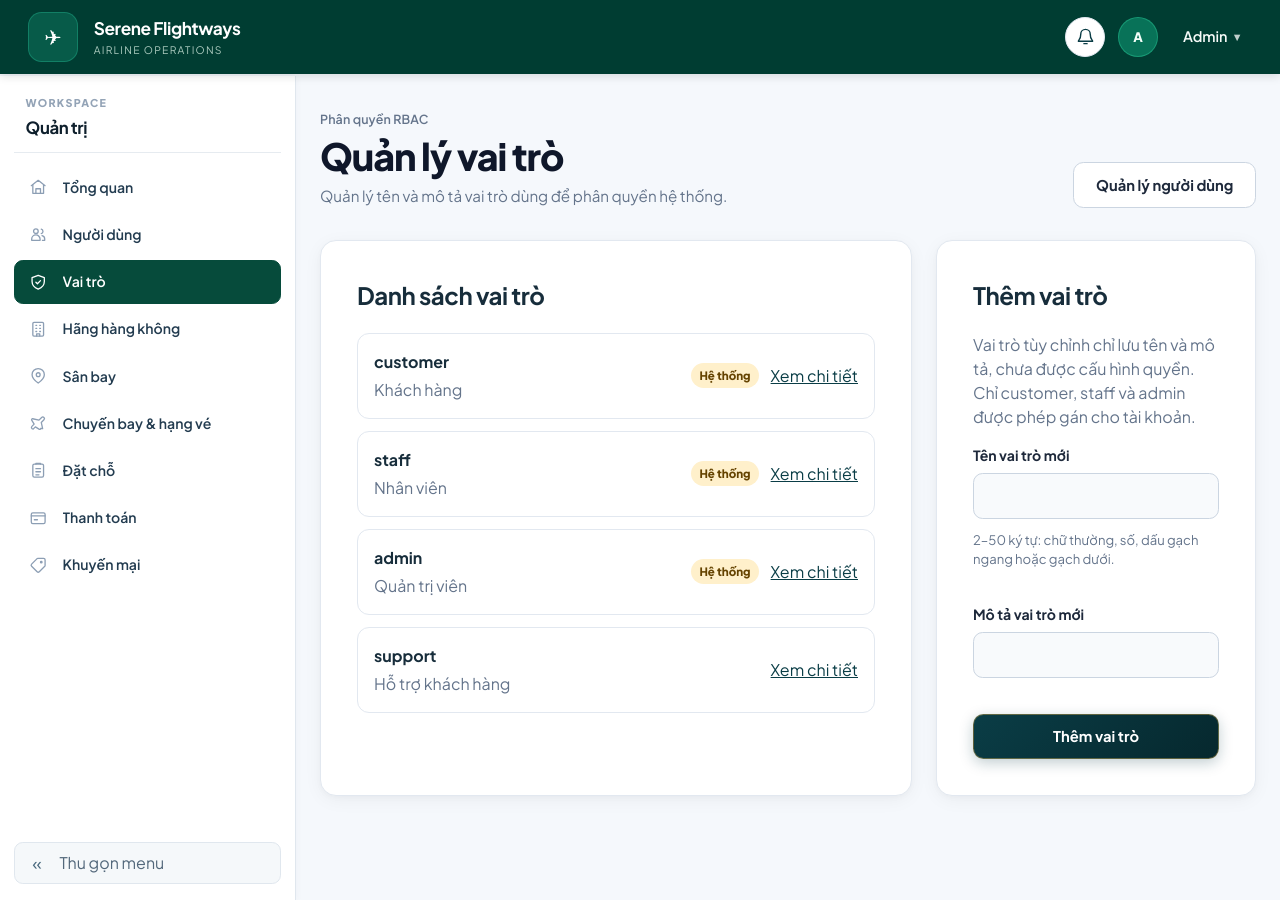
Test: admin role management › lists roles and creates a lowercase trimmed custom role with only supported fields
Expected: the heading "Quản lý vai trò" is shown, [320,132,563,179]
Expected: the text "customer" is shown, [374,351,449,372]
Type "  SUPPORT_LEAD  " into the field labelled "Tên vai trò mới".
click(1096, 496); type("  SUPPORT_LEAD  ")  # box [973,473,1219,519]
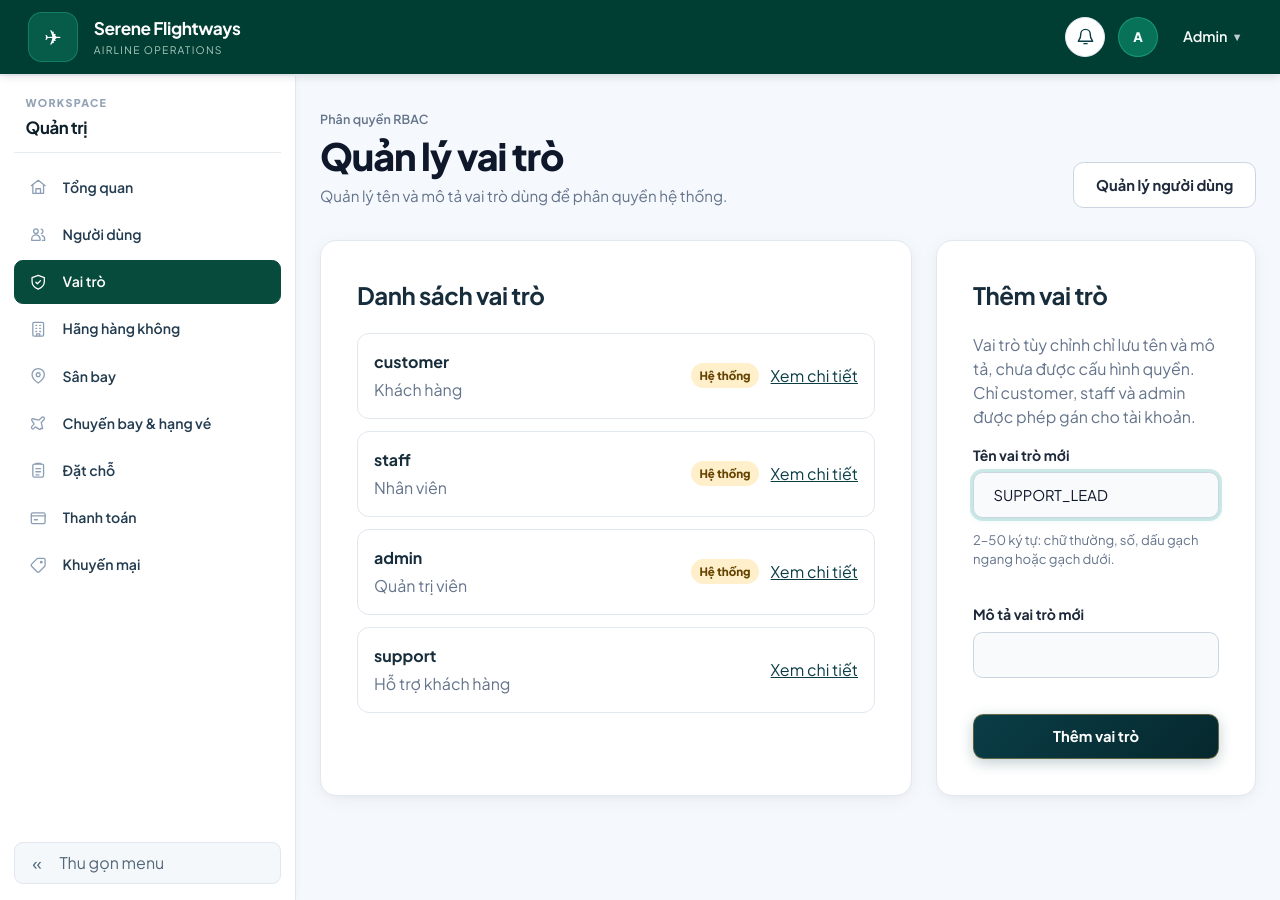
Type "Điều phối hỗ trợ" into the field labelled "Mô tả vai trò mới".
click(1096, 655); type("Điều phối hỗ trợ")  # box [973,632,1219,678]
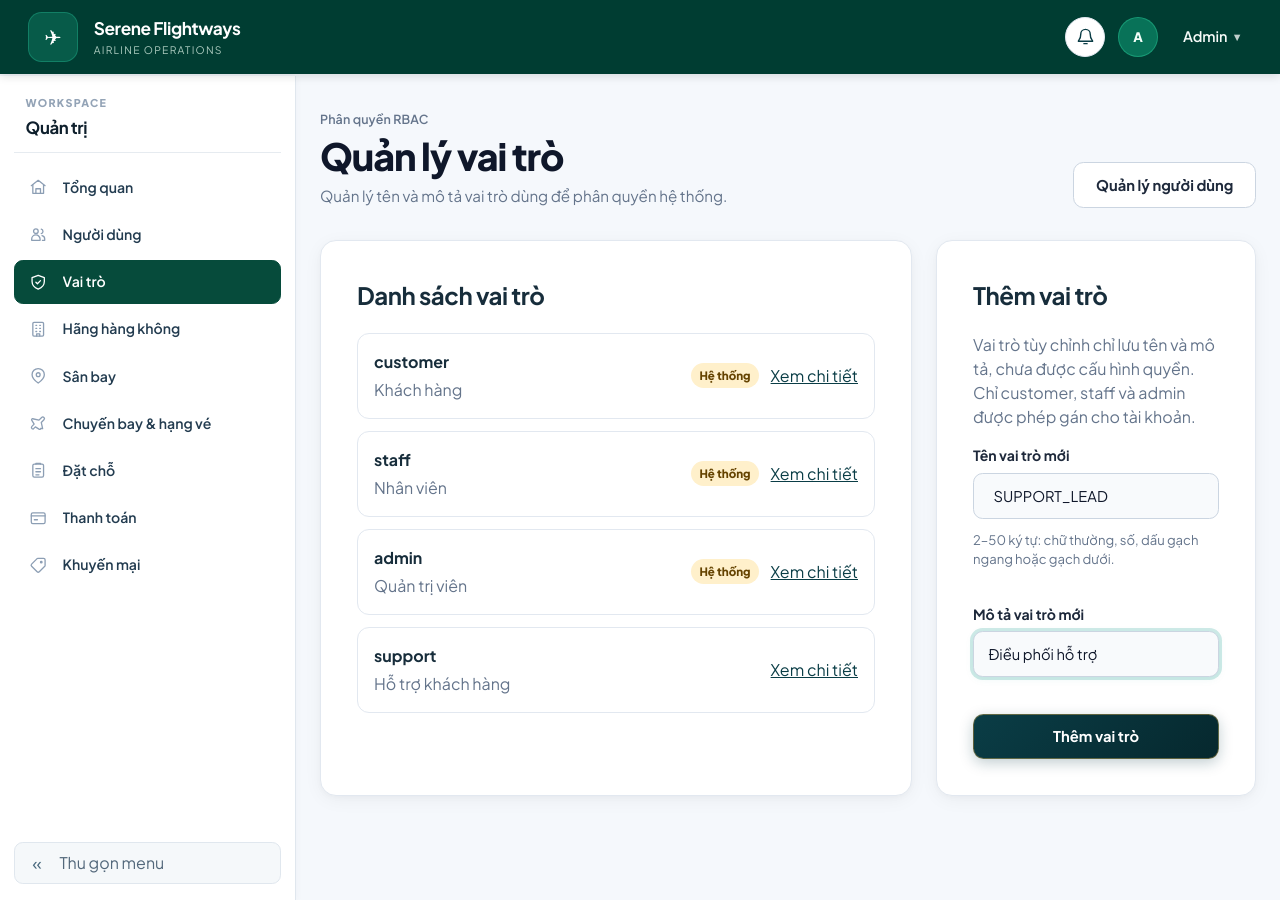
Click the button "Thêm vai trò".
click(1096, 737)  # box [973,714,1219,759]
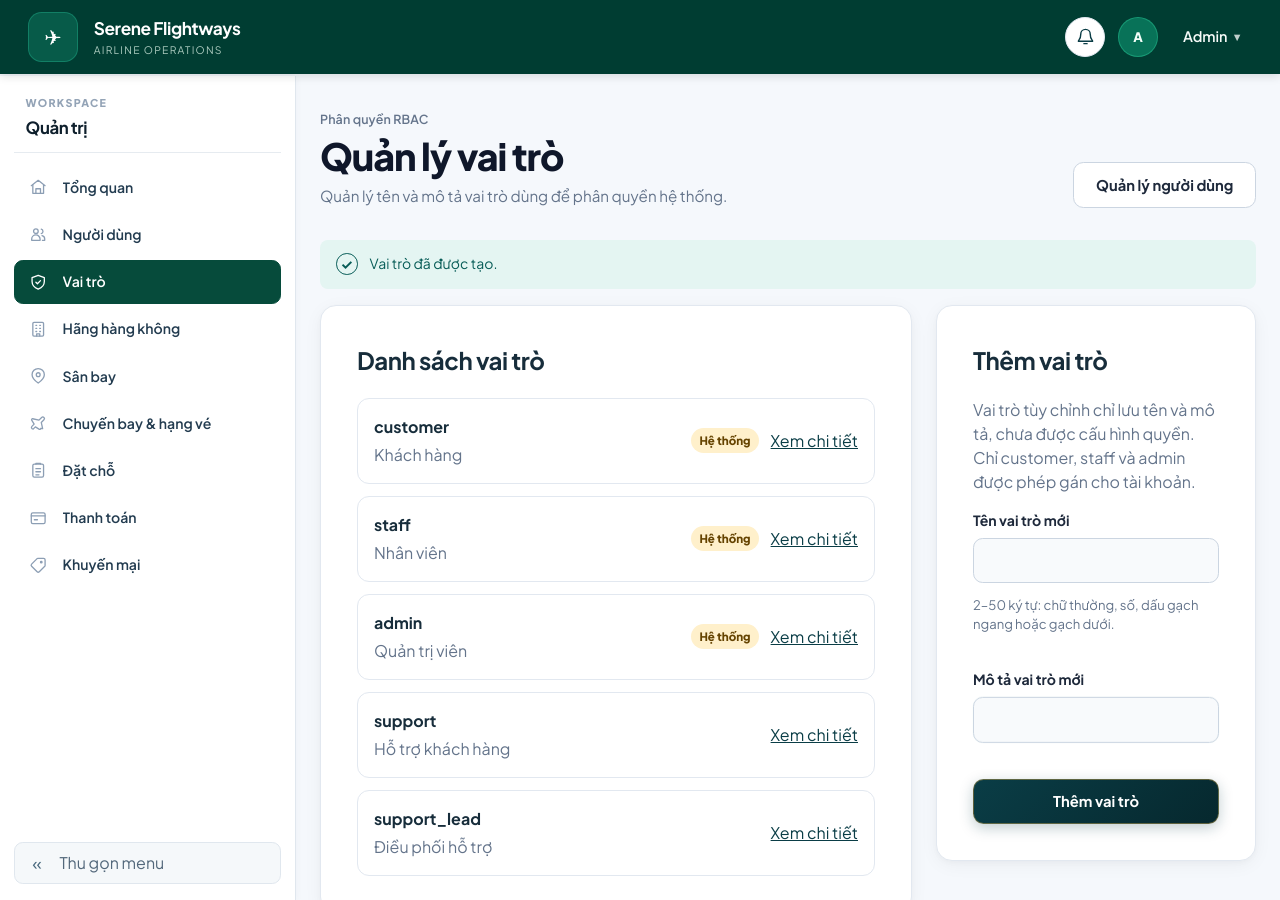
Expected: the text "Vai trò đã được tạo." is shown, [370,254,497,274]
